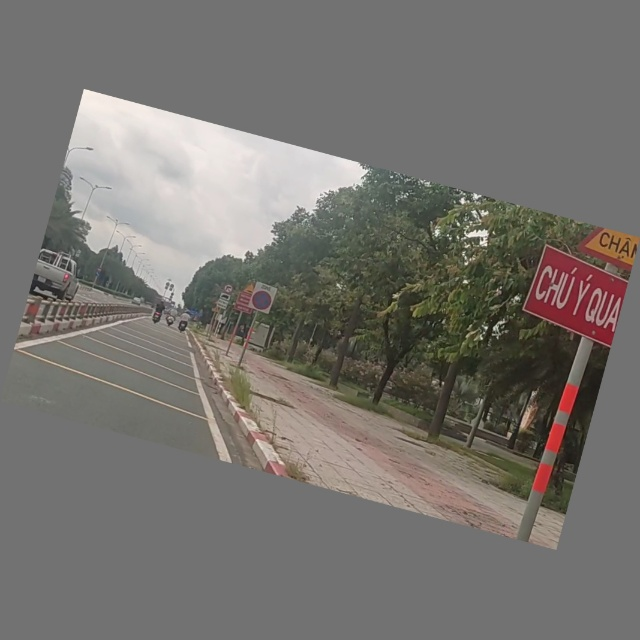P.123b: (221, 283, 235, 296)
P.130: (246, 279, 278, 317)
S.505a*Xe tai: (215, 292, 231, 312)
